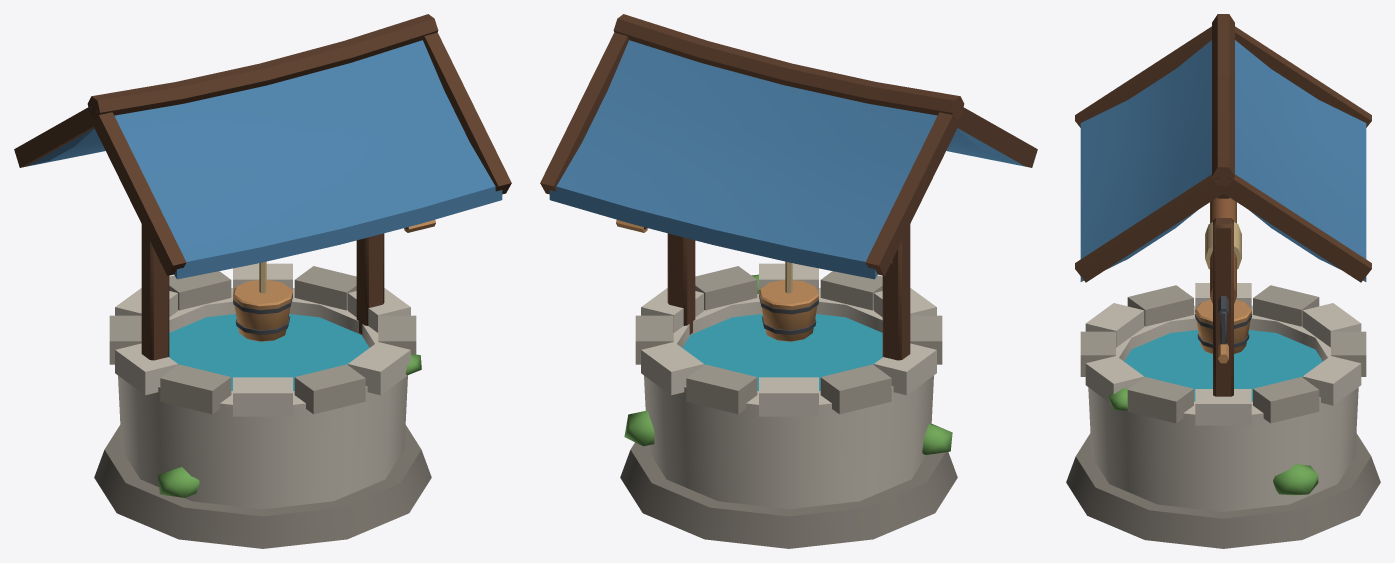
Rendered from well.glb.
3 views of the same model, side by side, from view 1: azimuth 30°, elevation 25°; view 2: azimuth 150°, elevation 25°; view 3: azimuth 270°, elevation 25° (orthographic). The views are drawn at different scales.
Visible parts, largest first — view 1: WellRoof_Shell, Part_StoneLight, Part_TimberDark, WellBase, Part_StoneMid, Part_Water, Part_WoodLight, Part_Moss, Part_Iron; view 2: WellRoof_Shell, Part_StoneLight, Part_TimberDark, WellBase, Part_StoneMid, Part_Water, Part_WoodLight, Part_Moss, Part_Iron; view 3: WellRoof_Shell, Part_StoneLight, Part_TimberDark, WellBase, Part_StoneMid, Part_Water, Part_WoodLight, Part_Moss, Windlass, Part_Iron, Part_Rope.
Part boxes in pixels (bbox=[...]): WellRoof_Shell: bbox=[27, 40, 502, 279]; Part_StoneLight: bbox=[115, 263, 410, 509]; Part_TimberDark: bbox=[14, 14, 511, 360]; WellBase: bbox=[94, 425, 431, 548]; Part_StoneMid: bbox=[109, 266, 416, 414]; Part_Water: bbox=[169, 314, 369, 390]; Part_WoodLight: bbox=[233, 220, 435, 341]; Part_Moss: bbox=[158, 354, 421, 497]; Part_Iron: bbox=[233, 227, 407, 334]; WellRoof_Shell: bbox=[549, 40, 1024, 279]; Part_StoneLight: bbox=[641, 263, 936, 509]; Part_TimberDark: bbox=[540, 14, 1037, 360]; WellBase: bbox=[620, 442, 957, 548]; Part_StoneMid: bbox=[635, 266, 942, 414]; Part_Water: bbox=[682, 314, 882, 390]; Part_WoodLight: bbox=[616, 220, 818, 341]; Part_Moss: bbox=[624, 274, 952, 454]; Part_Iron: bbox=[644, 227, 818, 334]; WellRoof_Shell: bbox=[1080, 40, 1366, 281]; Part_StoneLight: bbox=[1085, 283, 1361, 511]; Part_TimberDark: bbox=[1075, 14, 1371, 396]; WellBase: bbox=[1066, 433, 1380, 548]; Part_StoneMid: bbox=[1080, 285, 1366, 423]; Part_Water: bbox=[1124, 330, 1322, 401]; Part_WoodLight: bbox=[1195, 299, 1251, 363]; Part_Moss: bbox=[1108, 388, 1318, 495]; Windlass: bbox=[1210, 198, 1236, 303]; Part_Iron: bbox=[1194, 296, 1252, 347]; Part_Rope: bbox=[1205, 222, 1241, 269].
Bounding box in the file's own units: 2.28 × 2.69 × 1.96.
